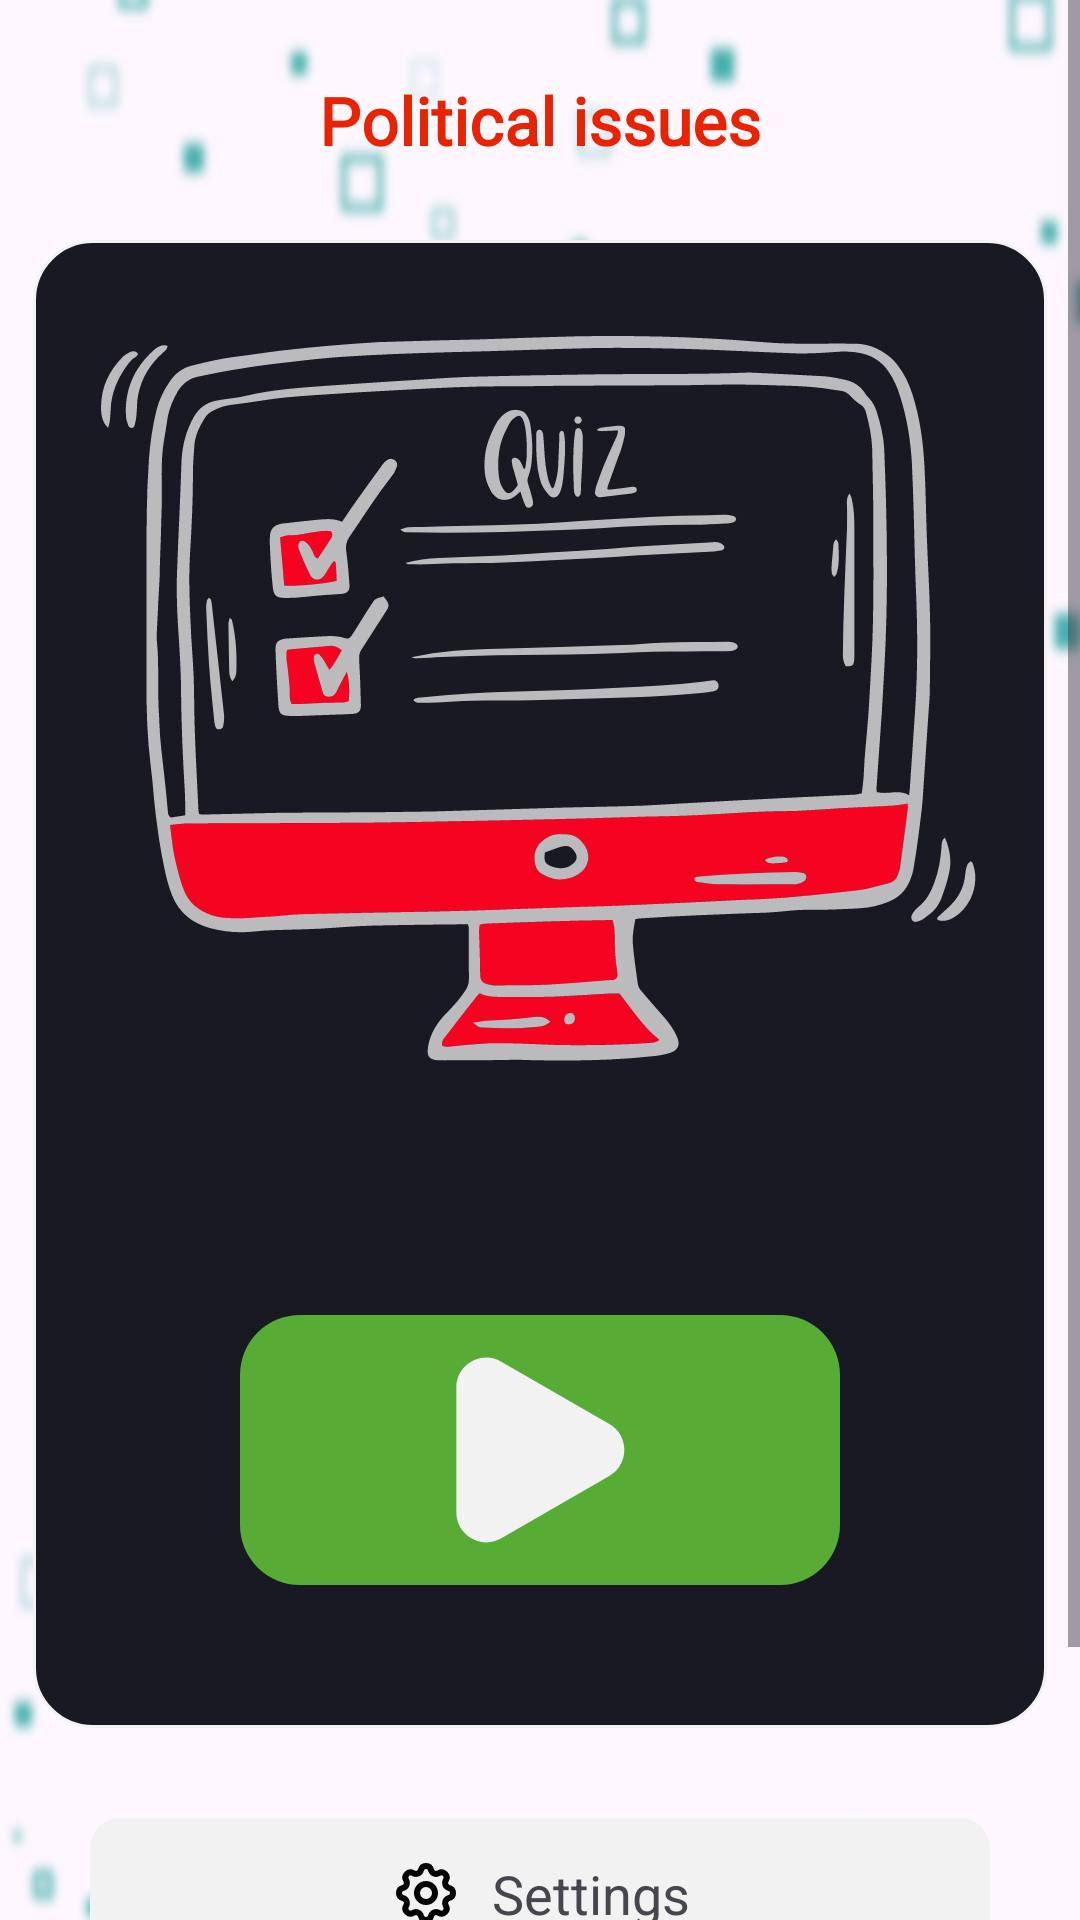

Where to tap for icons on this 1080x1920 app screen, as (x=x, y=y):
play: (x=540, y=1450)
